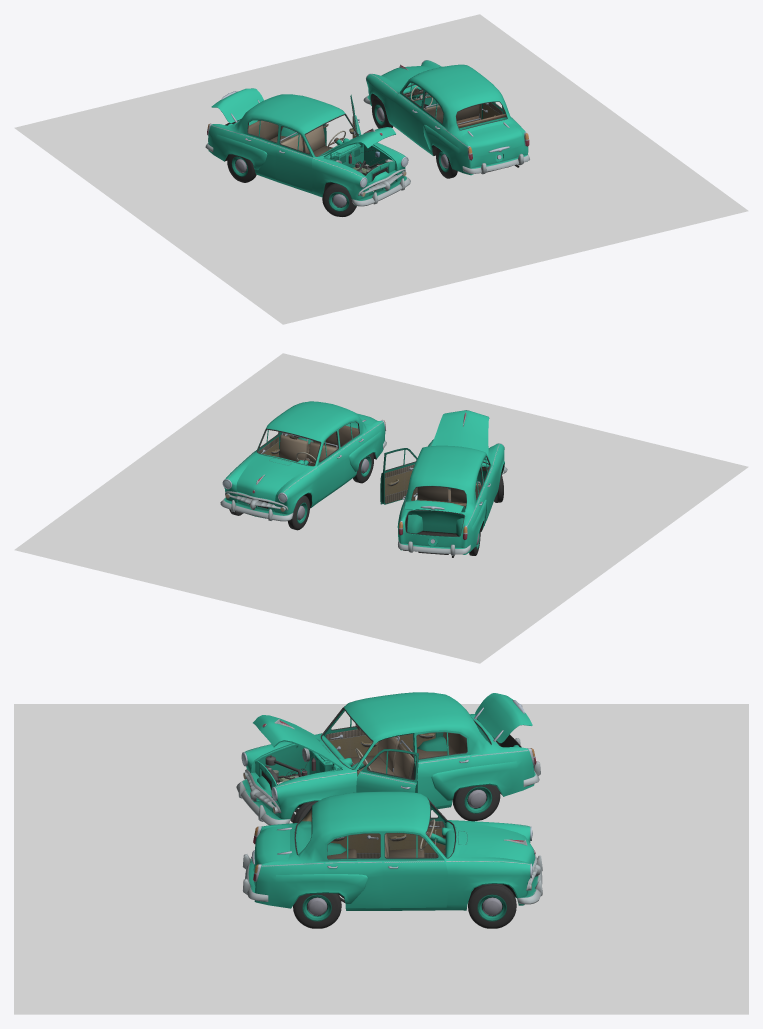
Rendered from car.FBX.
The picture shows the model from 3 angles, top to bottom: view 1: azimuth 30°, elevation 25°; view 2: azimuth 150°, elevation 25°; view 3: azimuth 270°, elevation 25°; orthographic projection. The views are drawn at different scales.
Parts seen in each view (by area): view 1: floor, car, body, trunk, door_fl, door_rl, wheels, seats, hood; view 2: floor, car, body, hood, door_fl, seats, wheels, door_rl; view 3: floor, car, body, door_fr, wheels, door_rr, hood, trunk, door_fl, door_rl.
Part boxes in pixels (x1,y1,x2,y2): floor: [14, 14, 748, 324]; car: [205, 88, 410, 216]; body: [363, 60, 529, 175]; trunk: [463, 122, 522, 156]; door_fl: [394, 81, 424, 143]; door_rl: [418, 89, 444, 153]; wheels: [371, 97, 457, 178]; seats: [424, 104, 480, 124]; hood: [381, 64, 433, 88]; floor: [14, 353, 748, 663]; car: [380, 410, 507, 557]; body: [220, 401, 386, 521]; hood: [236, 455, 307, 500]; door_fl: [317, 429, 343, 500]; seats: [278, 432, 337, 465]; wheels: [229, 453, 373, 530]; door_rl: [337, 420, 366, 483]; floor: [14, 704, 748, 1014]; car: [236, 692, 540, 825]; body: [242, 791, 542, 910]; door_fr: [382, 831, 448, 908]; wheels: [293, 884, 516, 928]; door_rr: [324, 831, 382, 908]; hood: [457, 822, 535, 865]; trunk: [251, 826, 291, 868]; door_fl: [387, 807, 445, 857]; door_rl: [331, 833, 380, 857].
Bounding box in the file's own units: 394 × 65.34 × 394.
Materials: 1 (1 with a texture image).
